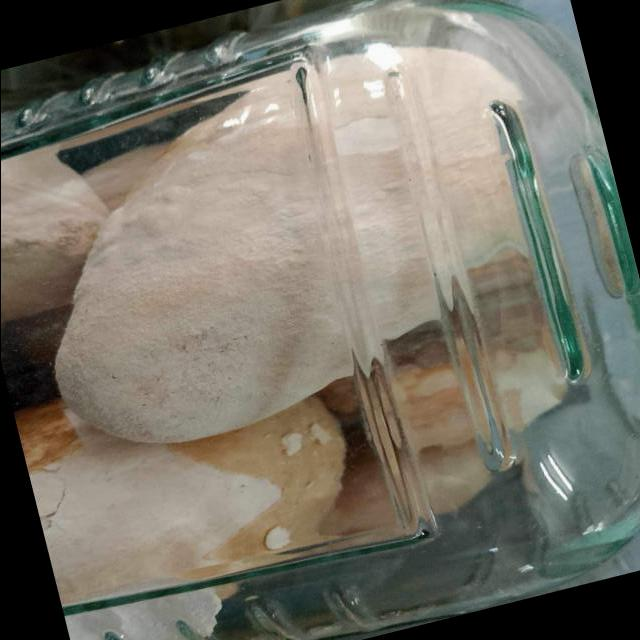General: (2, 1, 639, 638)
Sharps: (486, 98, 640, 572), (291, 56, 428, 541), (382, 47, 517, 472)
